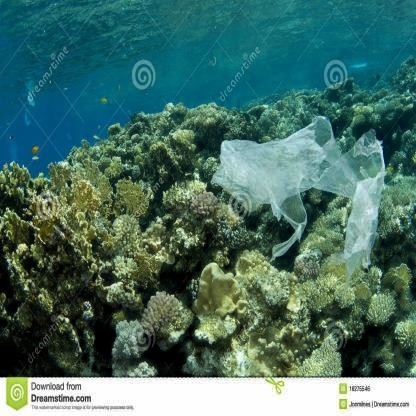pbag: (207, 110, 390, 284)
